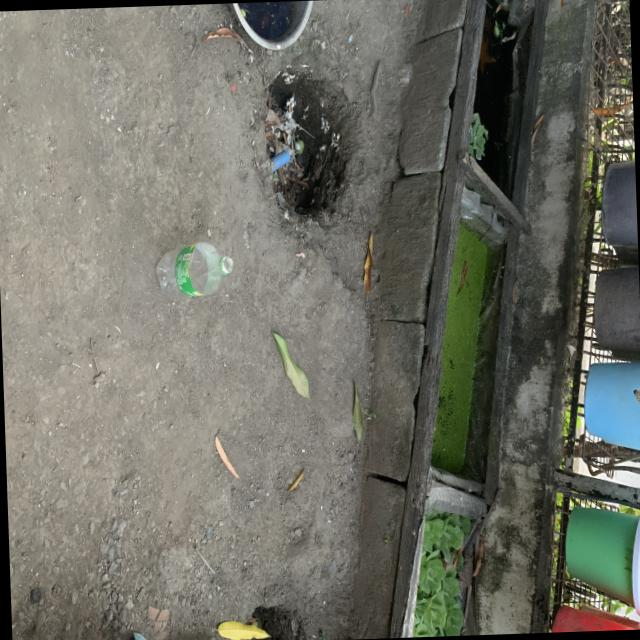Bottle: (155, 241, 232, 298)
